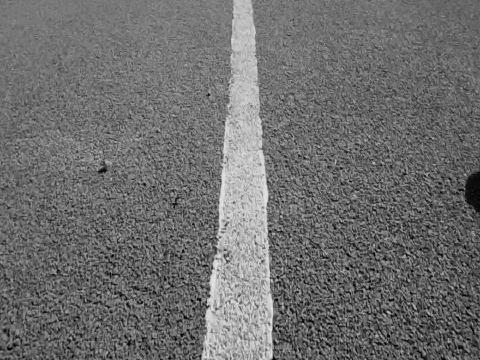Lines: (200, 0, 274, 360)
